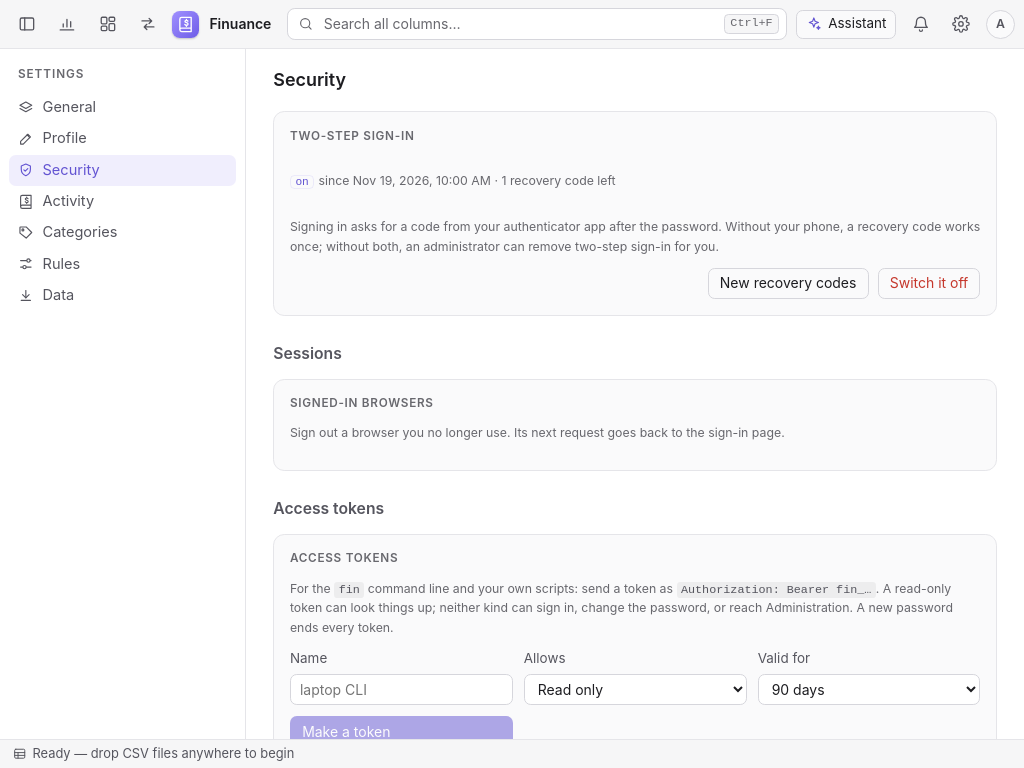
Test: Settings → Security (ADR 0040) › makes new recovery codes and switches it off, each with a code
Expected: the text "since Nov 19, 2026, 10:00 AM · 1 recovery code left" is shown, [318, 173, 616, 188]
Click the button "New recovery codes" at (788, 283), box [708, 268, 869, 299]
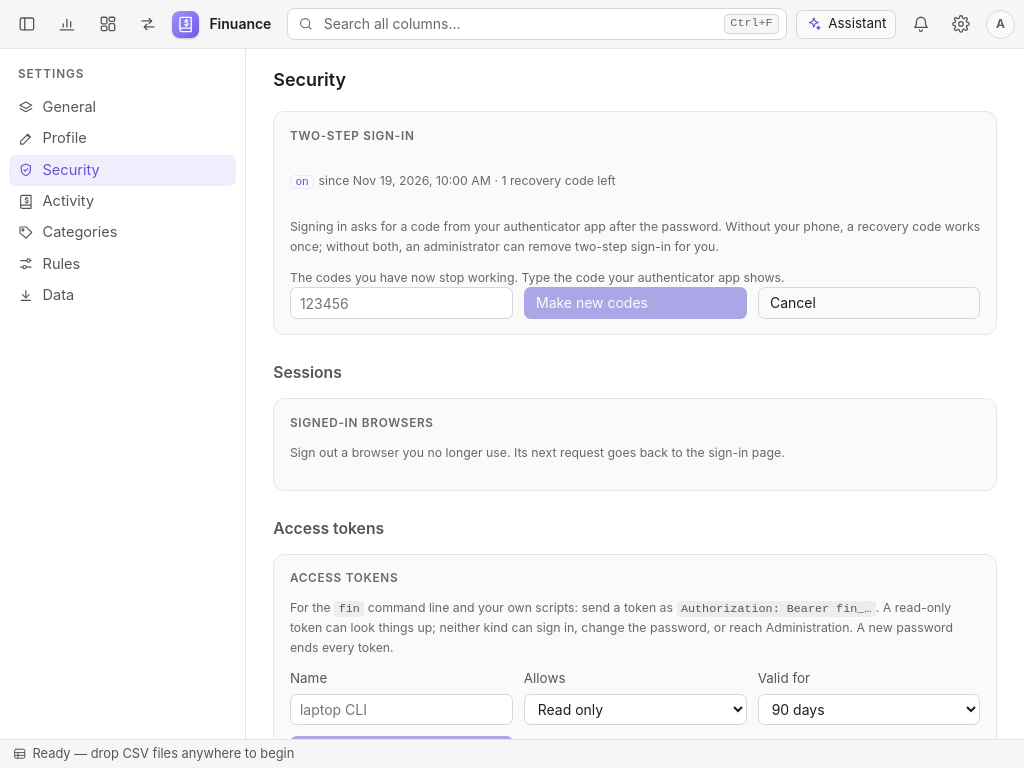
Type "654321" into the field named "Code from your authenticator app" at (401, 303), box [290, 287, 513, 319]
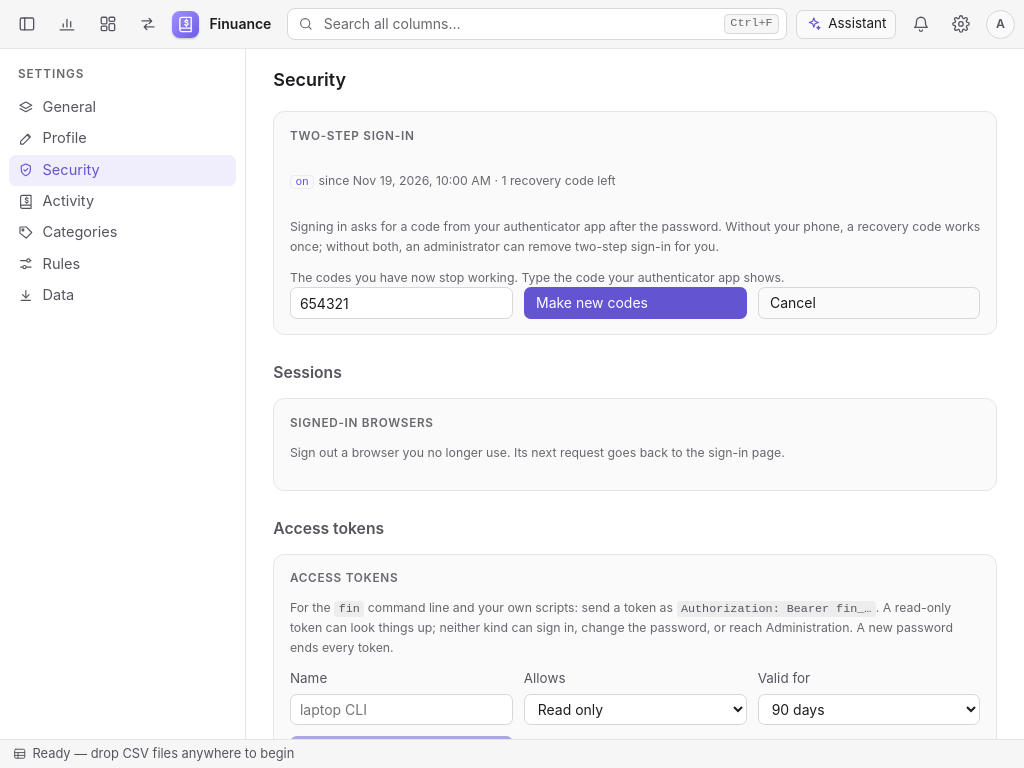
Click the button "Make new codes" at (635, 303), box [524, 287, 746, 319]
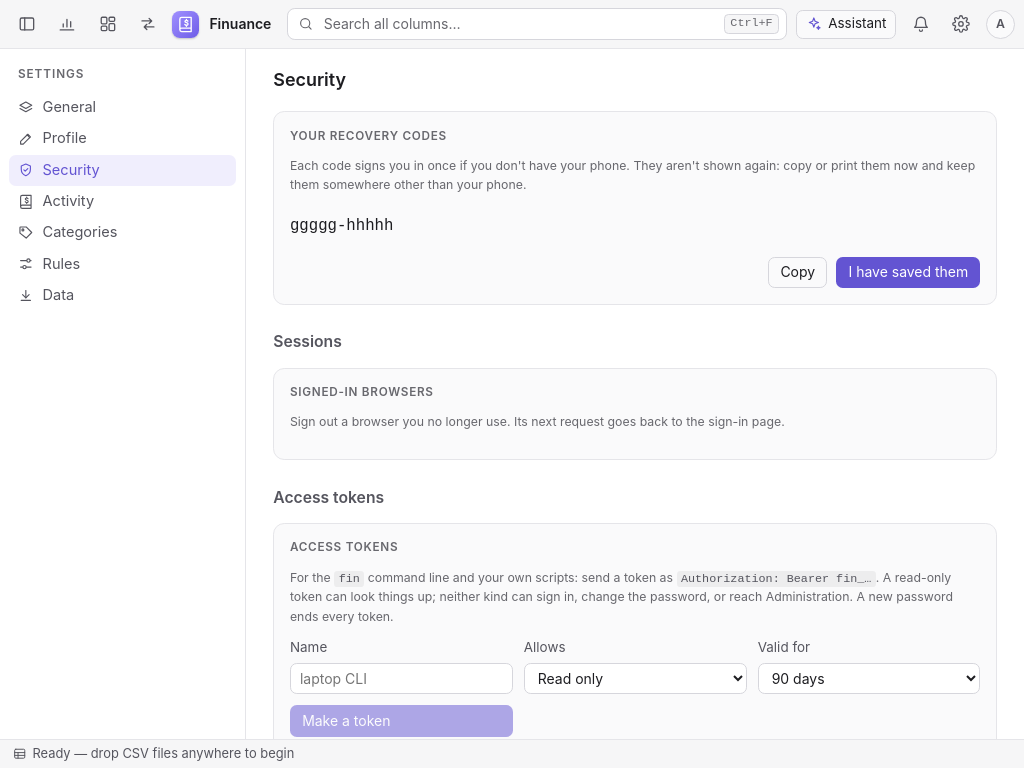
Expected: the text "ggggg-hhhhh" is shown, [290, 217, 393, 235]
Click the button "I have saved them" at (908, 272), box [836, 256, 980, 288]
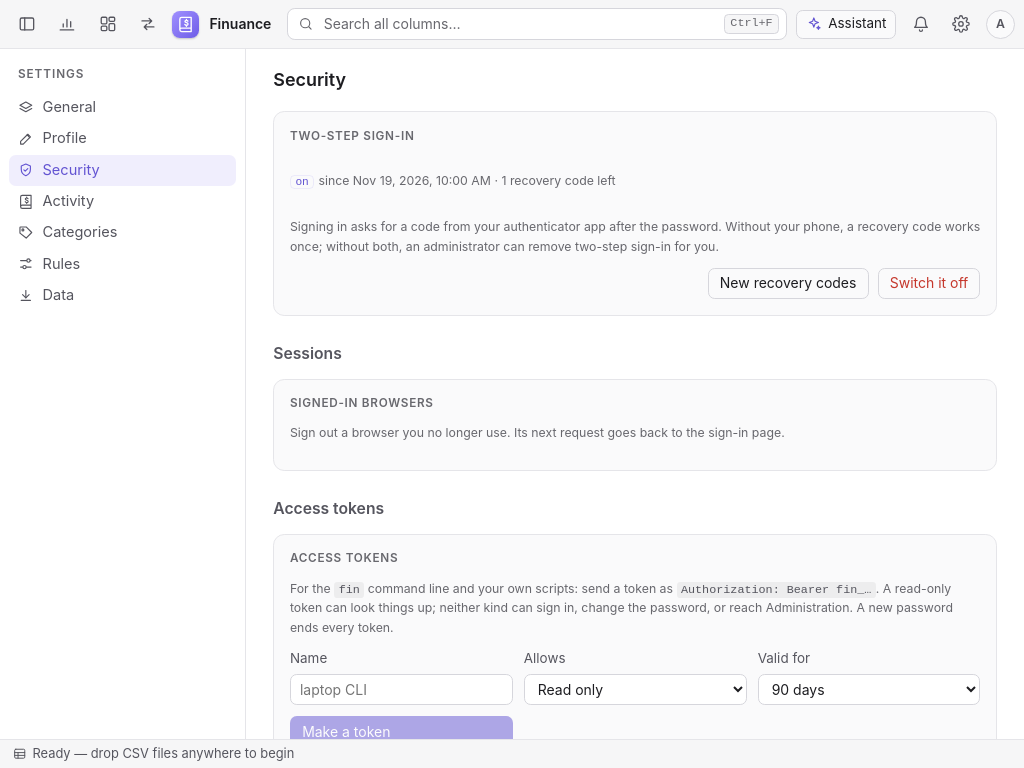
Click the button "Switch it off" at (929, 283), box [878, 268, 980, 299]
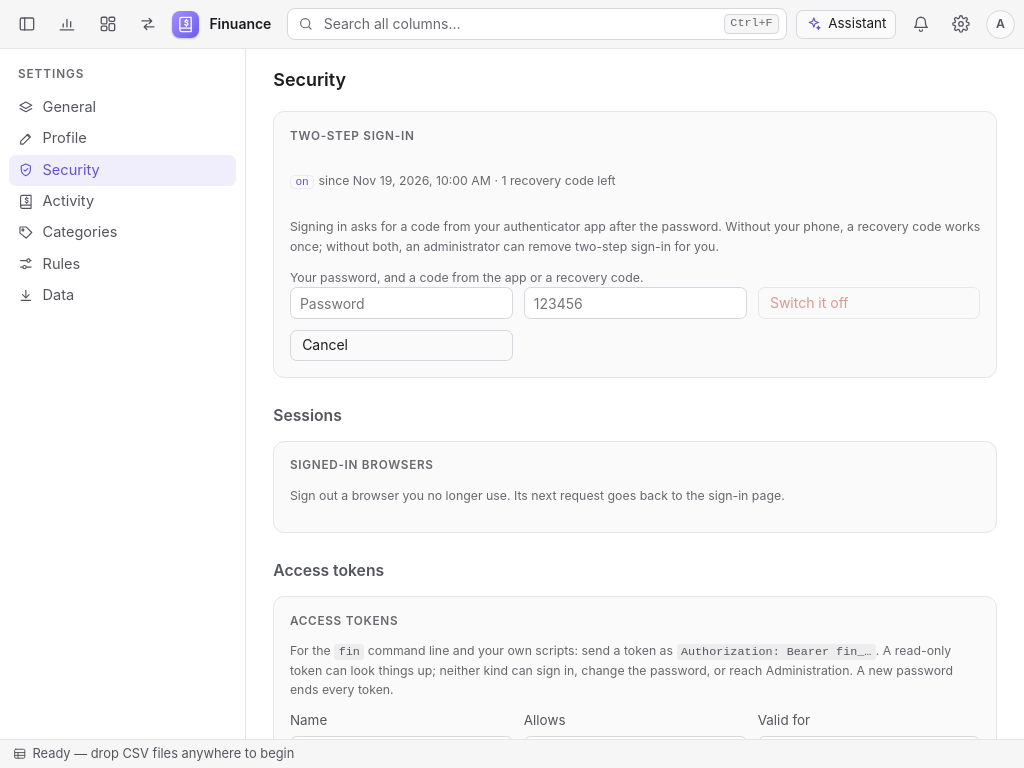
Expected: the button "Switch it off" is disabled, [758, 287, 980, 319]
Type "my password" into the password field labelled "Password" at (401, 303), box [290, 287, 513, 319]
Type "aaaaa-bbbbb" into the field named "Code or recovery code" at (635, 303), box [524, 287, 746, 319]
Click the button "Switch it off" at (869, 303), box [758, 287, 980, 319]
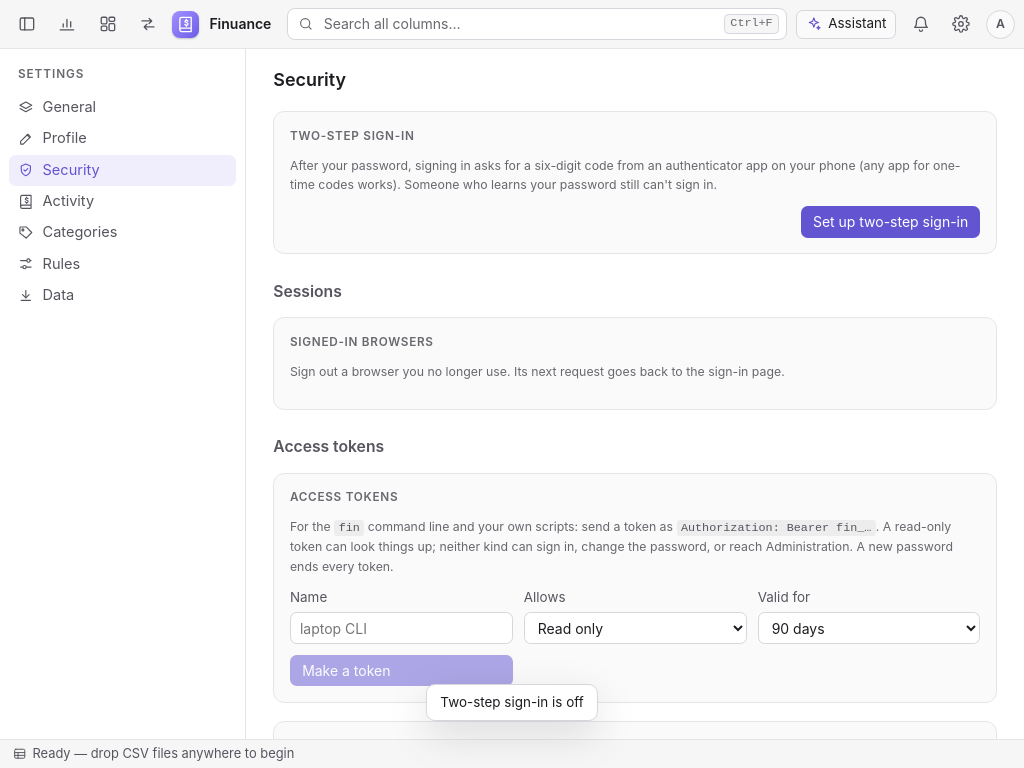
Expected: the button "Set up two-step sign-in" is shown, [801, 206, 980, 238]
